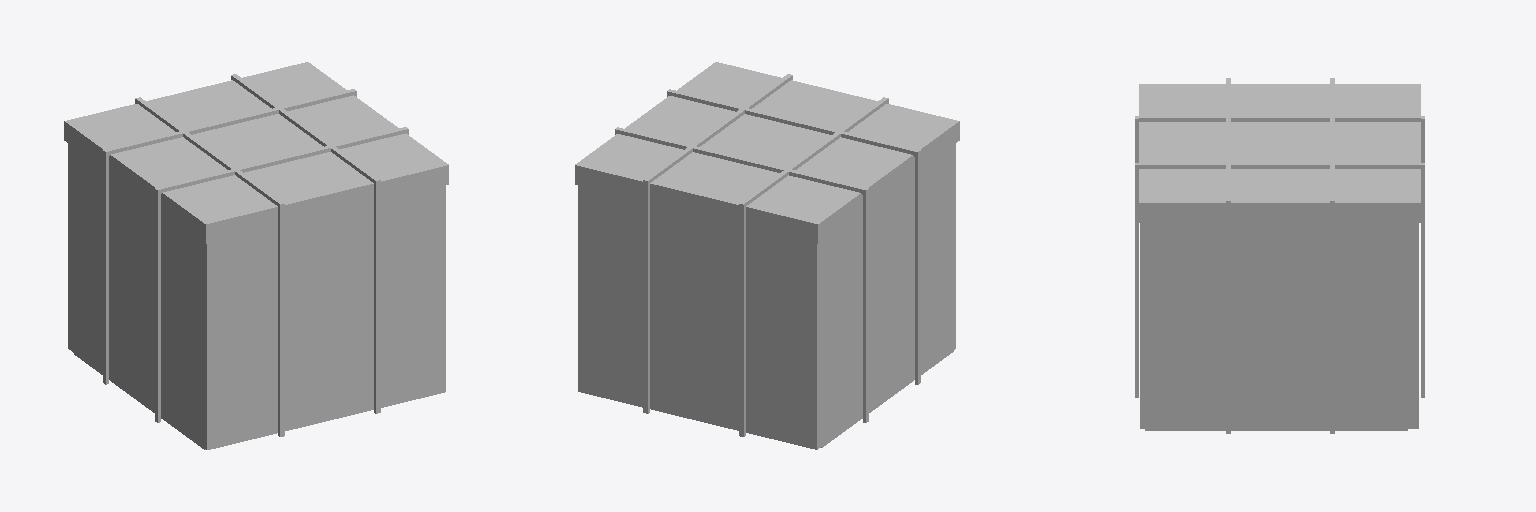
File: Crate.obj
3 renders of one model, left to right at view 1: azimuth 30°, elevation 25°; view 2: azimuth 150°, elevation 25°; view 3: azimuth 270°, elevation 25°, orthographic.
Visible parts, largest first — view 1: Cube.004_Cube.005, Cube.005_Cube.006, Cube.001_Cube.002, Cube.008_Cube.012, Cube.011_Cube.015, Cube.015_Cube.019, Cube.012_Cube.016, Cube.003_Cube.004, Cube.017_Cube.021, Cube.014_Cube.018, Cube.006_Cube.010, Cube.009_Cube.013; view 2: Cube.003_Cube.004, Cube.005_Cube.006, Cube.001_Cube.002, Cube.007_Cube.011, Cube.010_Cube.014, Cube.012_Cube.016, Cube.015_Cube.019, Cube.014_Cube.018, Cube.017_Cube.021, Cube.004_Cube.005, Cube.009_Cube.013, Cube.006_Cube.010; view 3: Cube.002_Cube.003, Cube.005_Cube.006, Cube.003_Cube.004, Cube.004_Cube.005, Cube.006_Cube.010, Cube.009_Cube.013, Cube.013_Cube.017, Cube.016_Cube.020, Cube.010_Cube.014, Cube.011_Cube.015, Cube.012_Cube.016, Cube.015_Cube.019.
Part boxes in pixels (left/top/right/bottom): Cube.004_Cube.005: left=201, top=185, right=445, bottom=449; Cube.005_Cube.006: left=64, top=62, right=448, bottom=243; Cube.001_Cube.002: left=74, top=149, right=205, bottom=449; Cube.008_Cube.012: left=278, top=202, right=284, bottom=436; Cube.011_Cube.015: left=374, top=179, right=380, bottom=413; Cube.015_Cube.019: left=158, top=128, right=404, bottom=193; Cube.012_Cube.016: left=106, top=90, right=352, bottom=155; Cube.003_Cube.004: left=68, top=143, right=74, bottom=352; Cube.017_Cube.021: left=155, top=188, right=160, bottom=422; Cube.014_Cube.018: left=103, top=149, right=108, bottom=384; Cube.006_Cube.010: left=137, top=99, right=282, bottom=205; Cube.009_Cube.013: left=233, top=75, right=378, bottom=182; Cube.003_Cube.004: left=578, top=185, right=822, bottom=449; Cube.005_Cube.006: left=575, top=62, right=959, bottom=243; Cube.001_Cube.002: left=821, top=148, right=953, bottom=447; Cube.007_Cube.011: left=739, top=202, right=745, bottom=436; Cube.010_Cube.014: left=643, top=179, right=649, bottom=413; Cube.012_Cube.016: left=618, top=128, right=864, bottom=194; Cube.015_Cube.019: left=670, top=90, right=916, bottom=156; Cube.014_Cube.018: left=863, top=188, right=868, bottom=422; Cube.017_Cube.021: left=915, top=150, right=920, bottom=384; Cube.004_Cube.005: left=950, top=143, right=955, bottom=352; Cube.009_Cube.013: left=645, top=75, right=790, bottom=182; Cube.006_Cube.010: left=741, top=99, right=886, bottom=205; Cube.002_Cube.003: left=1145, top=223, right=1407, bottom=430; Cube.005_Cube.006: left=1139, top=84, right=1420, bottom=222; Cube.003_Cube.004: left=1406, top=223, right=1418, bottom=428; Cube.004_Cube.005: left=1140, top=223, right=1152, bottom=428; Cube.006_Cube.010: left=1139, top=116, right=1420, bottom=121; Cube.009_Cube.013: left=1139, top=163, right=1420, bottom=168; Cube.013_Cube.017: left=1330, top=199, right=1334, bottom=433; Cube.016_Cube.020: left=1226, top=199, right=1230, bottom=433; Cube.010_Cube.014: left=1421, top=163, right=1424, bottom=397; Cube.011_Cube.015: left=1135, top=163, right=1138, bottom=397; Cube.012_Cube.016: left=1330, top=80, right=1334, bottom=198; Cube.015_Cube.019: left=1226, top=80, right=1230, bottom=198.
Bounding box in the file's own units: 1.46 × 1.29 × 1.46.